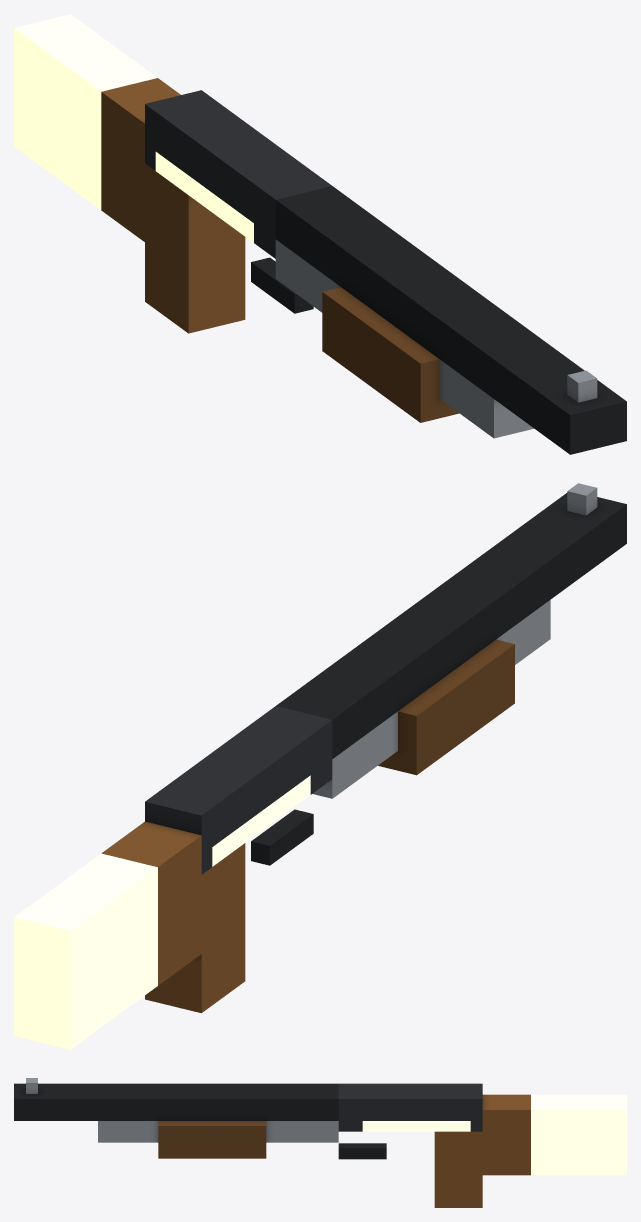
File: boomstick_legendary.glb
The picture shows the model from 3 angles, top to bottom: view 1: azimuth 30°, elevation 25°; view 2: azimuth 150°, elevation 25°; view 3: azimuth 270°, elevation 25°; orthographic projection. The views are drawn at different scales.
Visible parts, largest first — view 1: boomstick_legendary_body; view 2: boomstick_legendary_body; view 3: boomstick_legendary_body.
Boxes of the visible parts, <box> form: boomstick_legendary_body: <box>14,14,626,454</box>; boomstick_legendary_body: <box>14,483,626,1049</box>; boomstick_legendary_body: <box>14,1078,626,1207</box>.
Bounding box in the file's own units: 0.1953 × 0.4297 × 1.99.
1 material, 1 textured.
